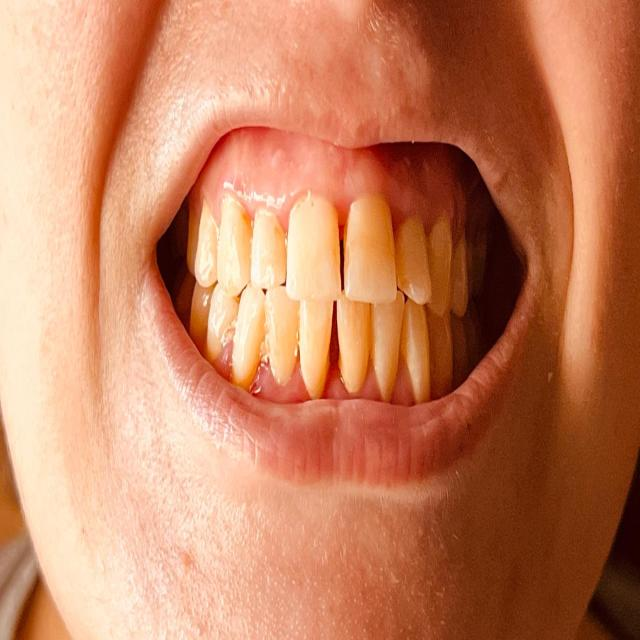tooth: (343, 207, 393, 299), (289, 215, 335, 304), (269, 294, 299, 382), (401, 227, 433, 304), (404, 301, 430, 392), (252, 217, 288, 282), (340, 303, 370, 379), (302, 305, 329, 388), (220, 204, 247, 286), (374, 302, 398, 383), (240, 291, 262, 377), (435, 227, 452, 313), (198, 207, 218, 280), (435, 315, 455, 383), (212, 289, 234, 349), (192, 286, 208, 337), (457, 240, 468, 307)
